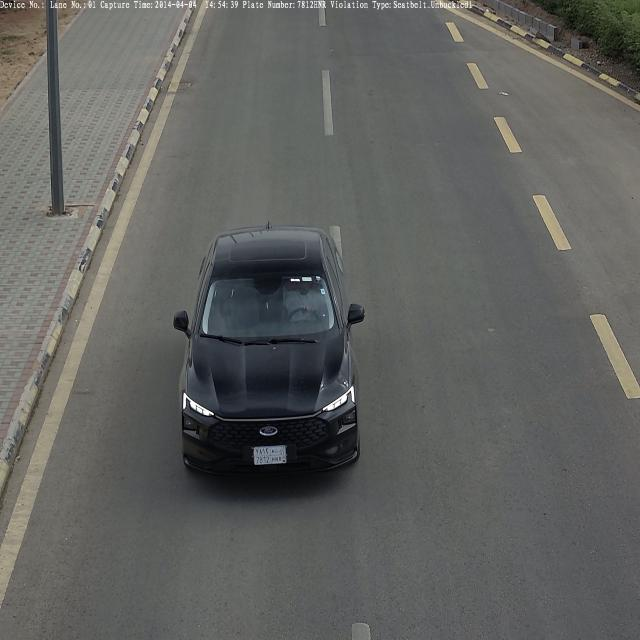person_without_seatbelt: (284, 280, 324, 324)
